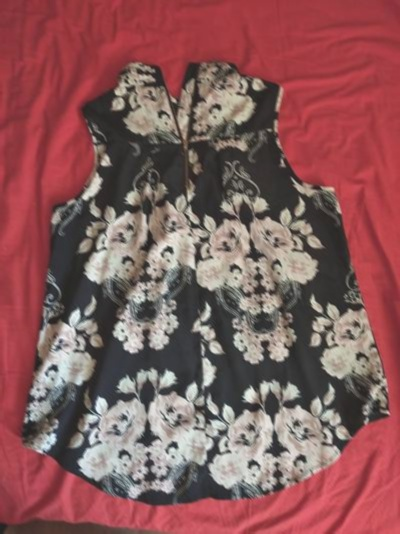Blouse: (16, 54, 389, 509)
